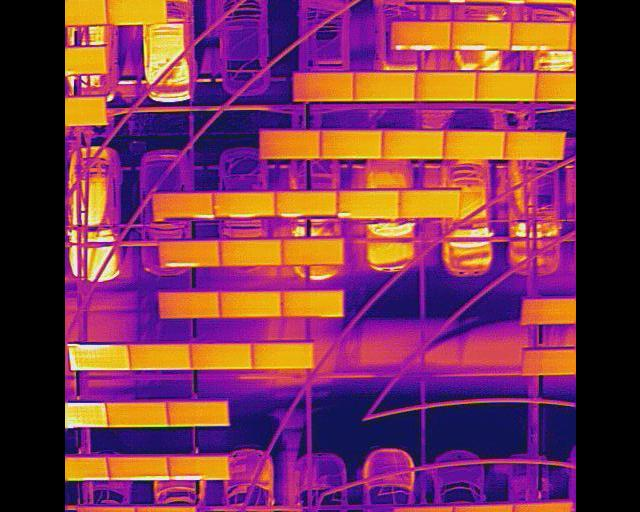Cell: (336, 191, 397, 219)
No-Anomaly: (320, 131, 383, 160), (218, 291, 283, 319), (476, 71, 535, 101), (414, 72, 475, 101), (381, 131, 444, 159), (127, 342, 190, 370), (396, 192, 460, 219), (353, 72, 414, 100), (259, 131, 320, 159), (442, 132, 505, 159), (251, 342, 314, 369), (280, 290, 342, 317), (190, 343, 250, 370), (502, 133, 564, 159), (519, 298, 576, 326), (281, 239, 342, 265), (158, 292, 219, 318), (218, 241, 281, 266), (295, 74, 353, 101), (167, 401, 228, 426), (102, 403, 165, 427), (520, 349, 576, 374), (110, 0, 166, 24)
Unclassified: (391, 22, 450, 51), (68, 344, 129, 372), (451, 22, 511, 50), (509, 23, 568, 51), (158, 241, 219, 268), (212, 193, 273, 218), (168, 456, 231, 480), (103, 457, 168, 480), (277, 194, 337, 218), (153, 193, 212, 217), (511, 502, 572, 512), (79, 504, 137, 512), (451, 505, 512, 512), (391, 506, 454, 512), (134, 506, 197, 512)
